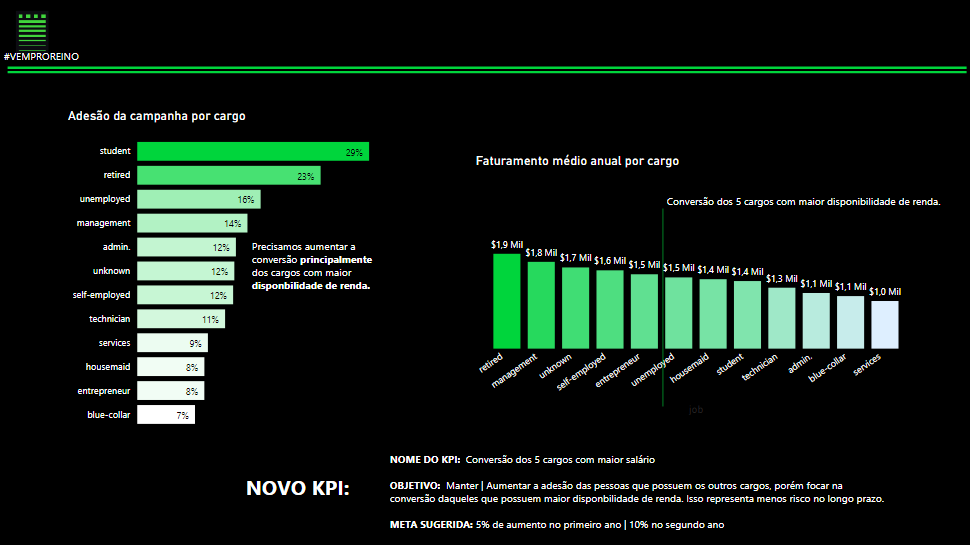

The page's visual inventory and layout, read from the dashboard file:
{"tool":"powerbi","page":{"name":"KPI - CONVERSÃO POR TRABALHO","canvas":[1280,720],"ordinal":1},"visuals":[{"type":"clusteredBarChart","title":"Adesão da campanha por cargo","fields":{"Y":["campaigns.##JOB"],"Category":["campaigns.job"]},"box":[84.6,143.6,414.6,432.7],"z":0},{"type":"basicShape","box":[0,78.9,1280,22.8],"z":1000},{"type":"basicShape","box":[0,79.9,1280,32.3],"z":2000},{"type":"image","box":[11.4,10.5,59.9,68.5],"z":3000},{"type":"columnChart","title":"Faturamento médio anual por cargo","fields":{"Category":["campaigns.job"],"Y":["Avg(campaigns.balance)"]},"box":[620.4,201.8,583.5,349.1],"z":4000},{"type":"textbox","box":[506.5,591.1,663.1,128.9],"z":5000},{"type":"textbox","box":[317.6,618.1,153.1,83.7],"z":6000},{"type":"basicShape","box":[847.3,265.4,46.9,279.6],"z":7000},{"type":"textbox","box":[870.7,252,373.4,67.8],"z":8000},{"type":"textbox","box":[326.2,311.9,173.1,130.3],"z":9000},{"type":"textbox","box":[0,61.8,127.4,28.5],"z":10000}]}

Visuals, with their boxes in screenshot pixels (x1, y1, x2, y2), scaled from the page's 1280x720 canvas onto the 970x545 screenshot:
"Adesão da campanha por cargo" clusteredBarChart: 64,109,378,436
basicShape: 0,60,969,77
basicShape: 0,60,969,85
image: 9,8,54,60
"Faturamento médio anual por cargo" columnChart: 470,153,912,417
textbox: 384,447,886,544
textbox: 241,468,357,531
basicShape: 642,201,678,413
textbox: 660,191,943,242
textbox: 247,236,378,335
textbox: 0,47,97,68
